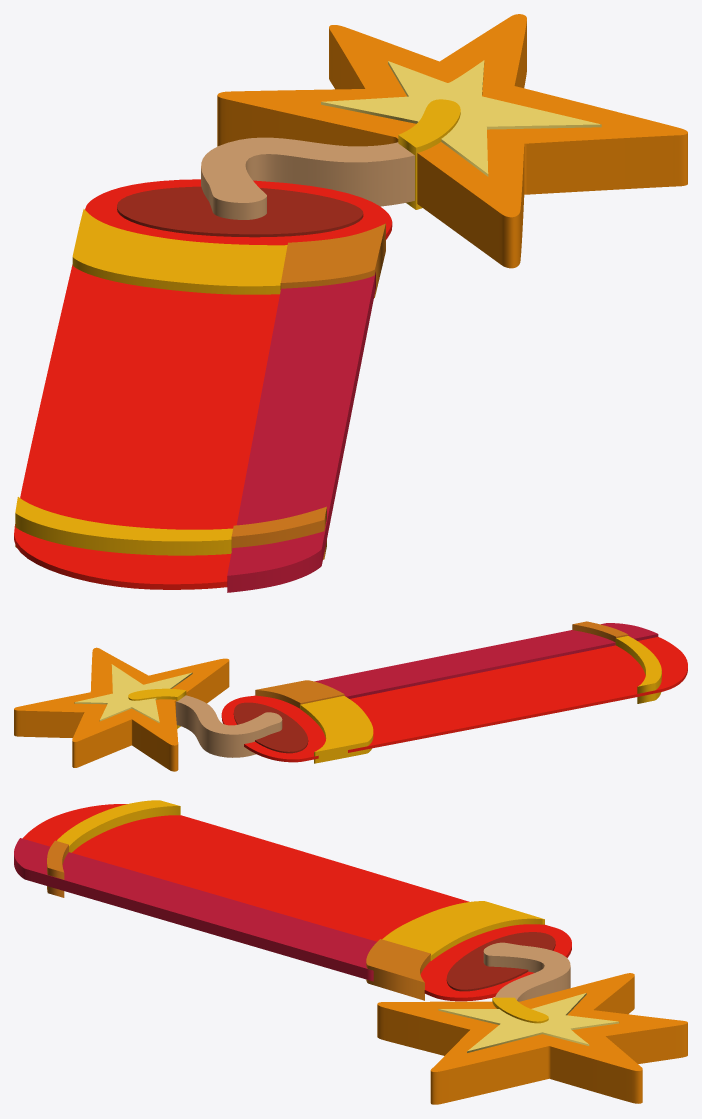
File: emoji_u1f9e8.glb
3 views of the same model, one above another, from view 1: azimuth 30°, elevation 25°; view 2: azimuth 150°, elevation 25°; view 3: azimuth 270°, elevation 25° (orthographic). The views are drawn at different scales.
Parts seen in each view (by area): view 1: emoji_u1f9e8; view 2: emoji_u1f9e8; view 3: emoji_u1f9e8.
Part boxes in pixels (bbox=[...]): emoji_u1f9e8: bbox=[14, 14, 687, 592]; emoji_u1f9e8: bbox=[14, 621, 687, 771]; emoji_u1f9e8: bbox=[14, 800, 687, 1104].
Bounding box in the file's own units: 0.0333 × 0.0022 × 0.0336.
